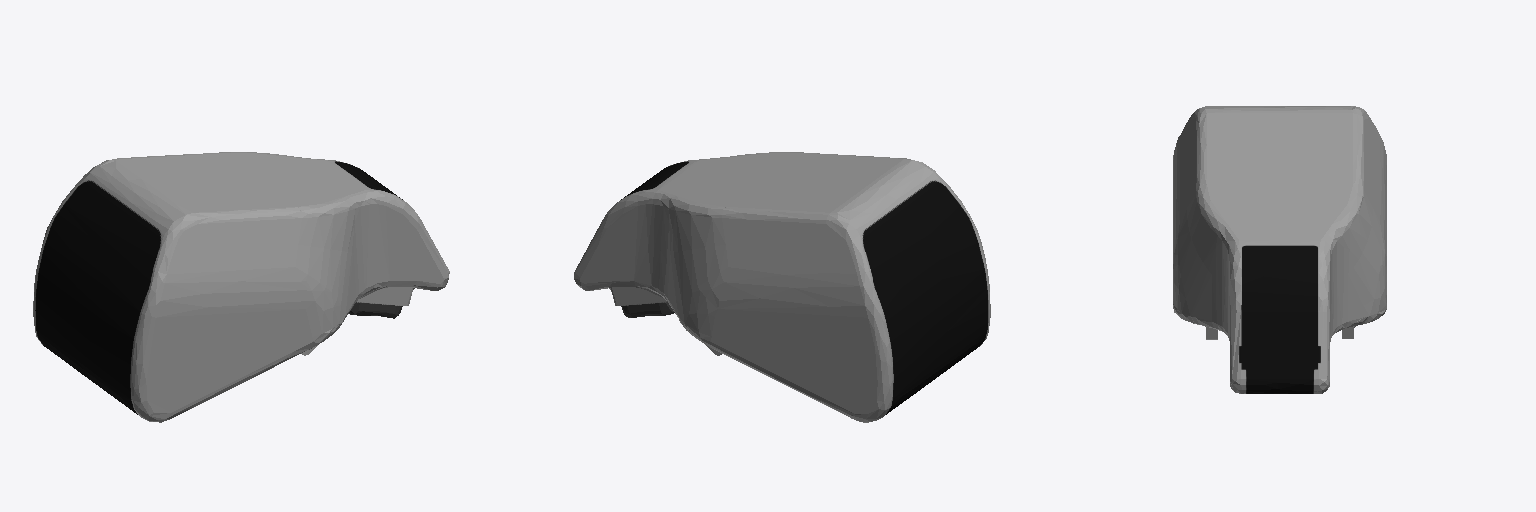
3 renders of one model, left to right at view 1: azimuth 30°, elevation 25°; view 2: azimuth 150°, elevation 25°; view 3: azimuth 270°, elevation 25°, orthographic.
Visible parts, largest first — view 1: /ambf/env/pr2/r_gripper_r_finger_link_/ambf/env/pr2/r_gripper_r_; view 2: /ambf/env/pr2/r_gripper_r_finger_link_/ambf/env/pr2/r_gripper_r_; view 3: /ambf/env/pr2/r_gripper_r_finger_link_/ambf/env/pr2/r_gripper_r_.
Part boxes in pixels (bbox=[...]): /ambf/env/pr2/r_gripper_r_finger_link_/ambf/env/pr2/r_gripper_r_: bbox=[33, 152, 449, 422]; /ambf/env/pr2/r_gripper_r_finger_link_/ambf/env/pr2/r_gripper_r_: bbox=[574, 152, 990, 422]; /ambf/env/pr2/r_gripper_r_finger_link_/ambf/env/pr2/r_gripper_r_: bbox=[1173, 106, 1386, 393].
Bounding box in the file's own units: 0.1046 × 0.0548 × 0.0562.
Materials: 1 (1 with a texture image).